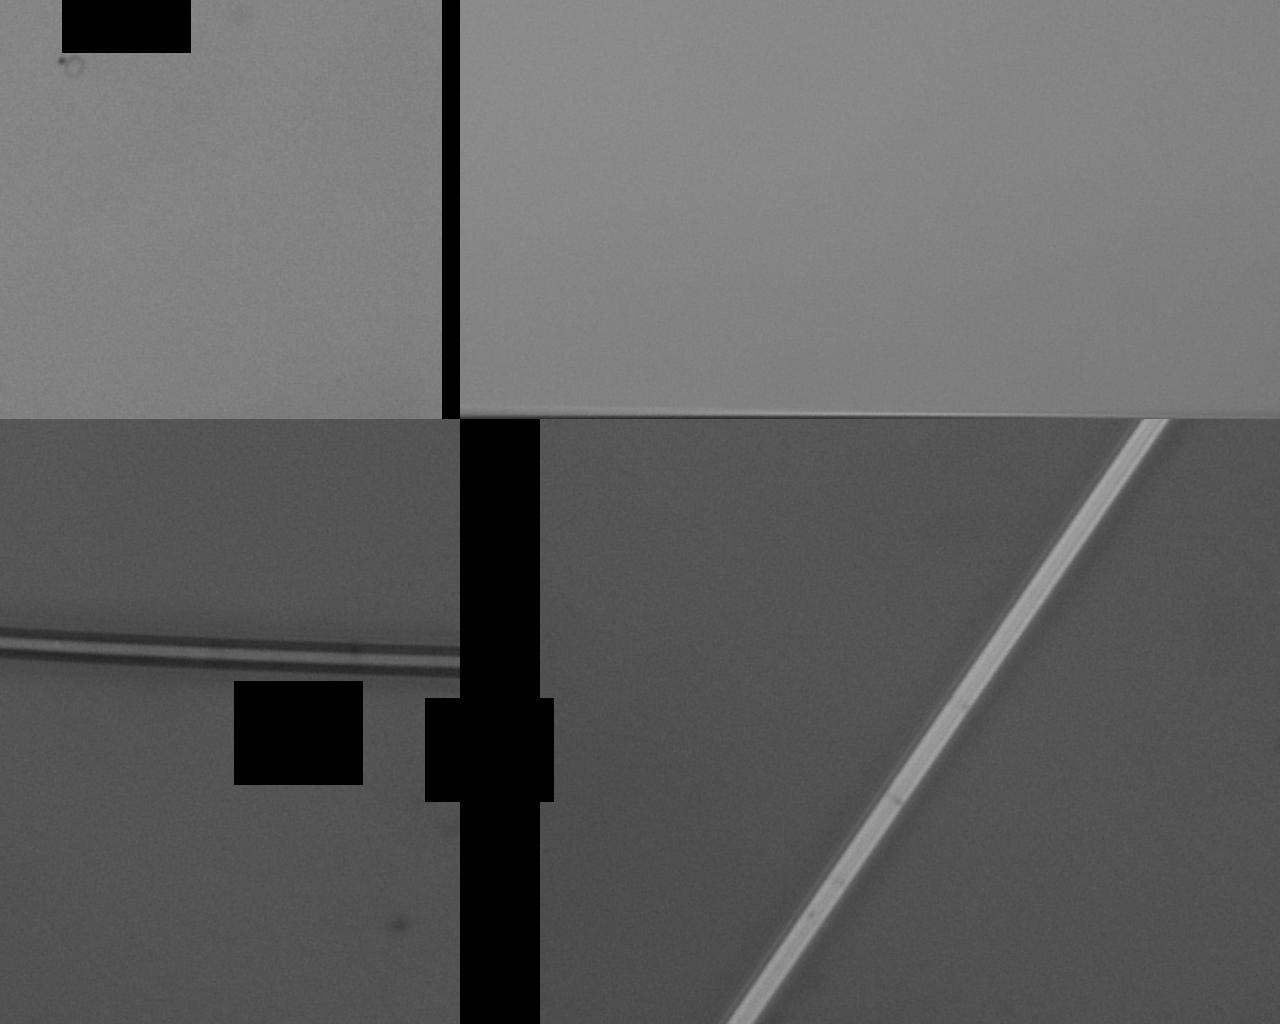fiber: (721, 419, 1171, 1024), (0, 624, 460, 675)
